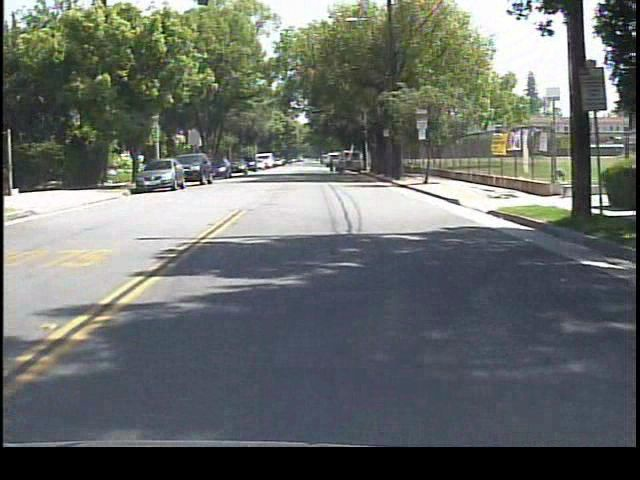person: (323, 151, 339, 177)
